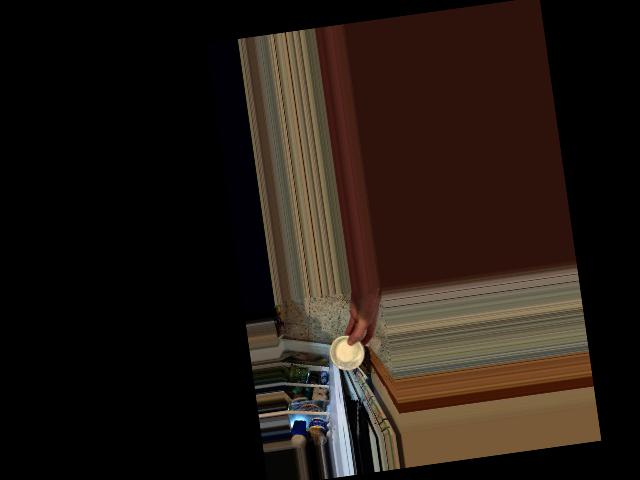cotage: (330, 332, 370, 372)
